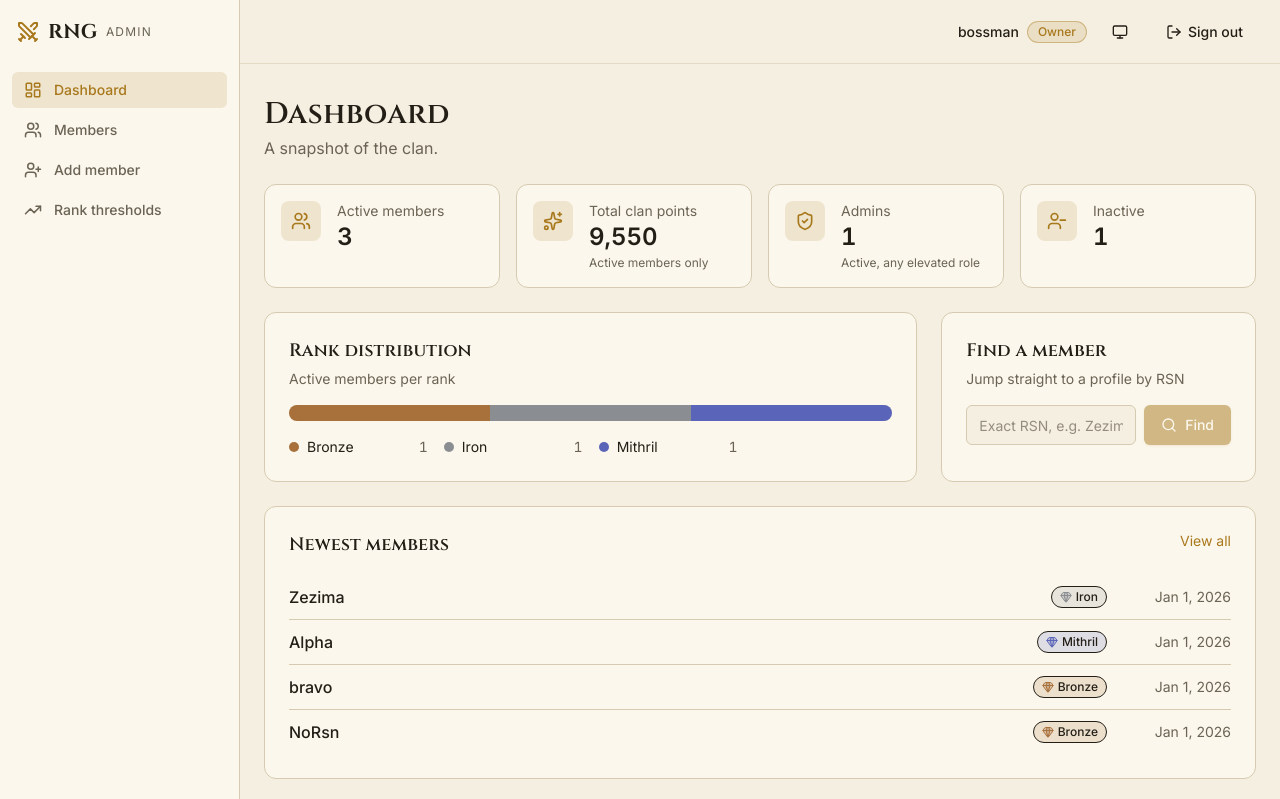
admin shell › shows a friendly message when the quick search misses
Type "Nobody" into the field named "RuneScape name" at {"x": 1051, "y": 425}, box [966,405,1136,445]
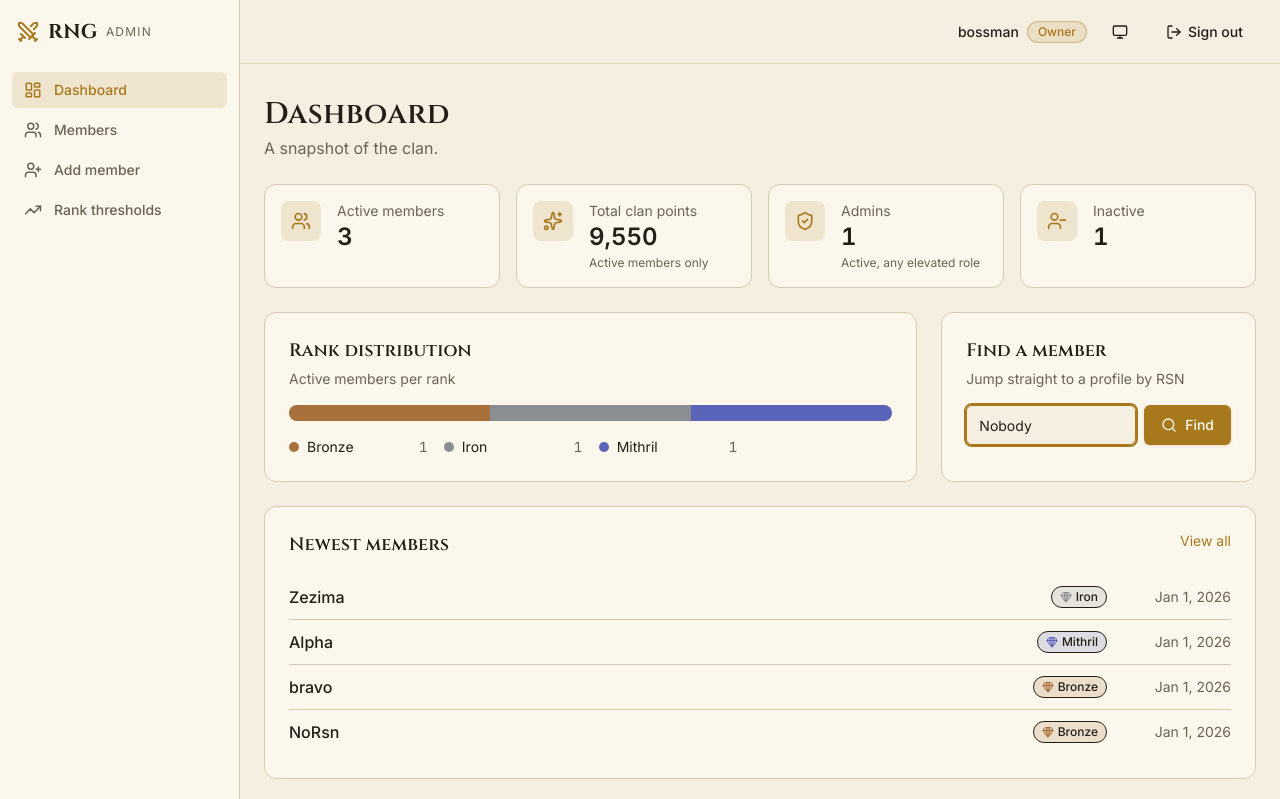
Click the button "Find" at {"x": 1188, "y": 425}, box [1144,405,1231,445]
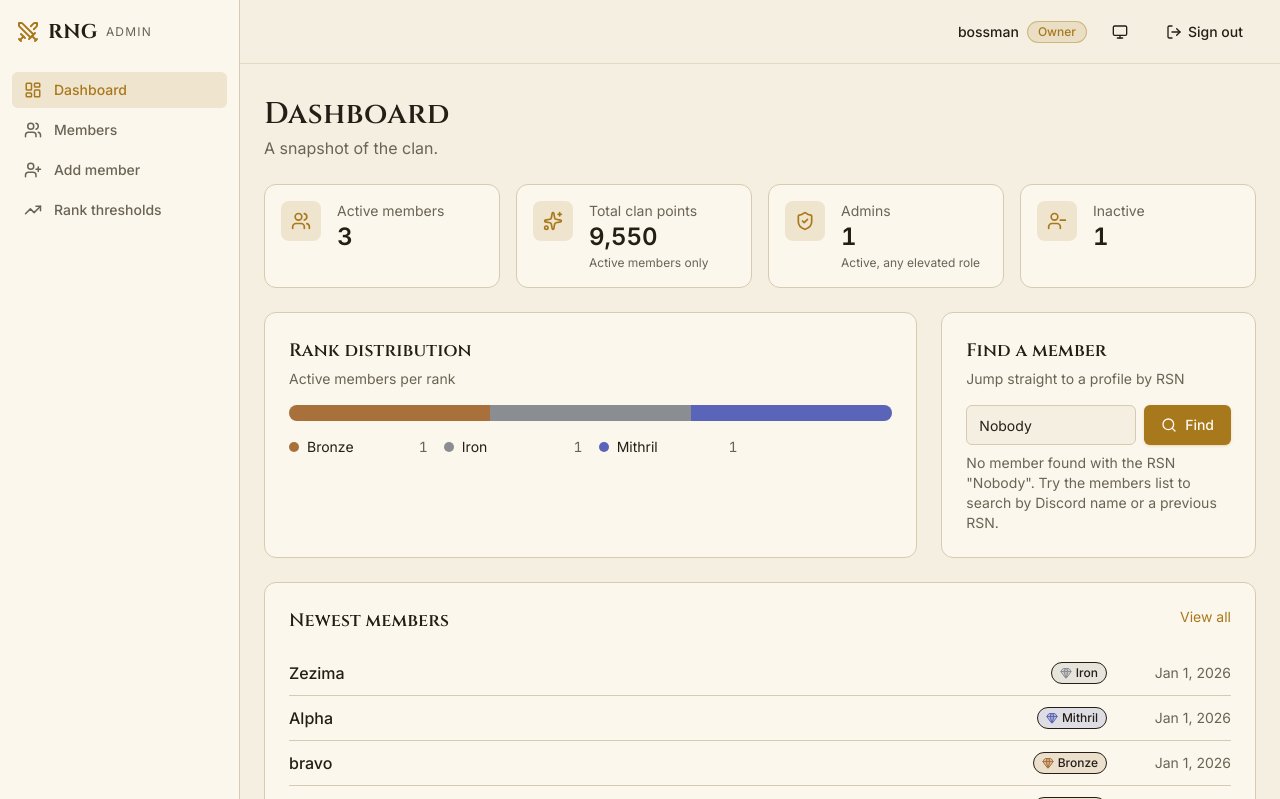
Expected: the text "No member found with the RSN \"Nobody\"" is shown, [966,454,1217,531]
